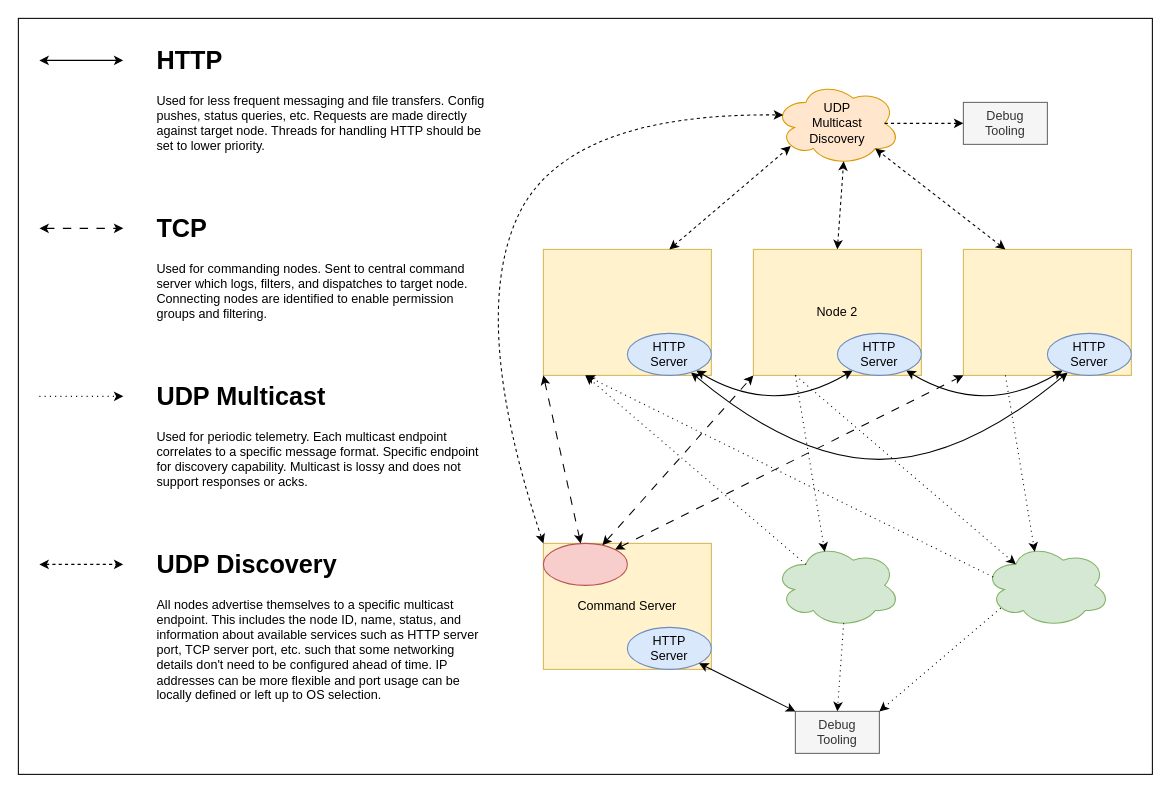
This 1171x793 diagram has some shape labels left out. The shapes that lost their labels are listed below. From the top down, each one's box as (x1, y1, x2, y2) in pixels, then its label:
(542, 248, 711, 375): Node 1
(962, 248, 1131, 375): Node 3
(542, 542, 627, 585): TCP Server
(773, 542, 900, 627): UDP Multicast 1
(983, 542, 1110, 627): UDP Multicast 2
